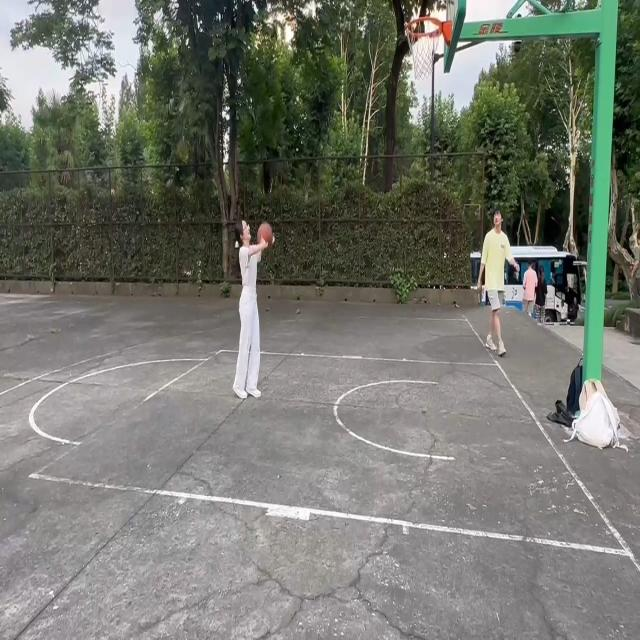basketball: (406, 14, 450, 91)
rim: (260, 221, 273, 245)
